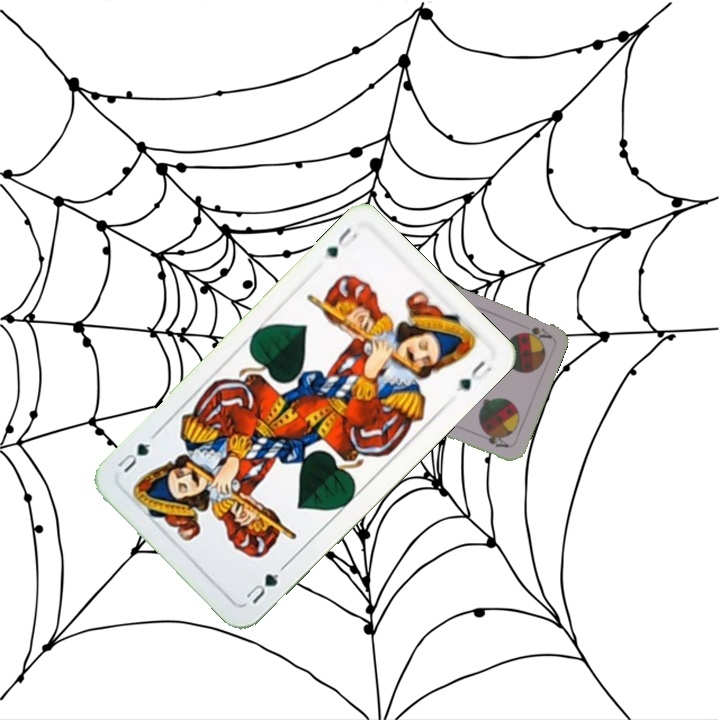GU: (241, 569, 282, 607), (321, 223, 360, 261)
SA: (521, 323, 554, 341)
